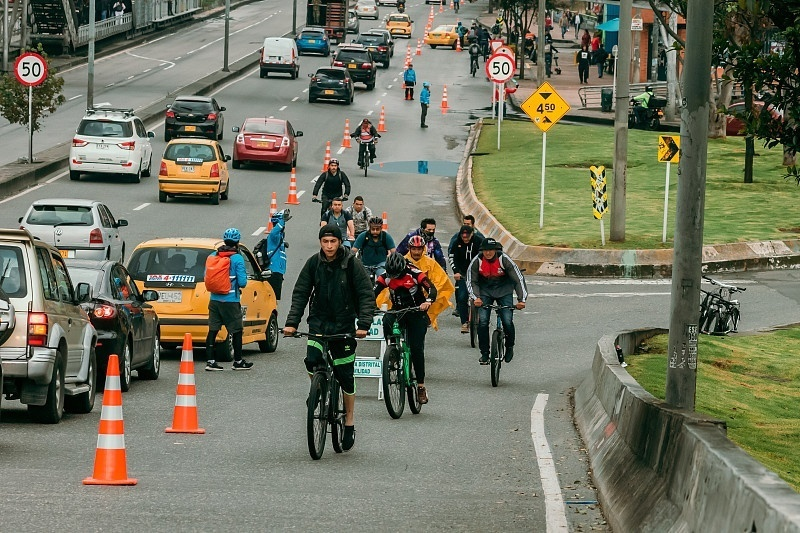non-vehicle: (295, 327, 359, 447), (373, 302, 434, 411), (473, 295, 513, 386), (697, 273, 743, 337), (356, 134, 376, 176)
